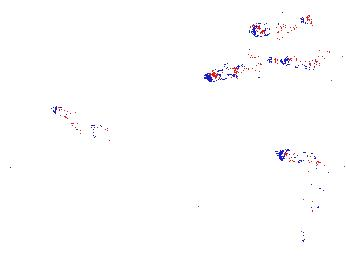X-ray fish: (301, 178, 328, 214)
redtail glassfish: (203, 53, 283, 82), (245, 11, 317, 38), (51, 100, 106, 134), (273, 146, 346, 170), (280, 48, 346, 72)
